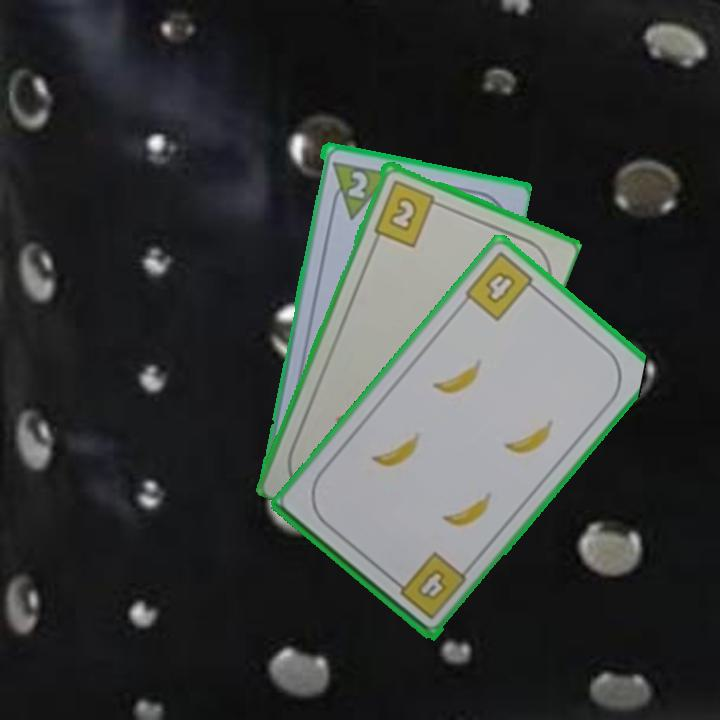2b: (370, 176, 445, 249)
2p: (325, 157, 391, 221)
4b: (461, 248, 543, 324), (388, 548, 470, 623)
